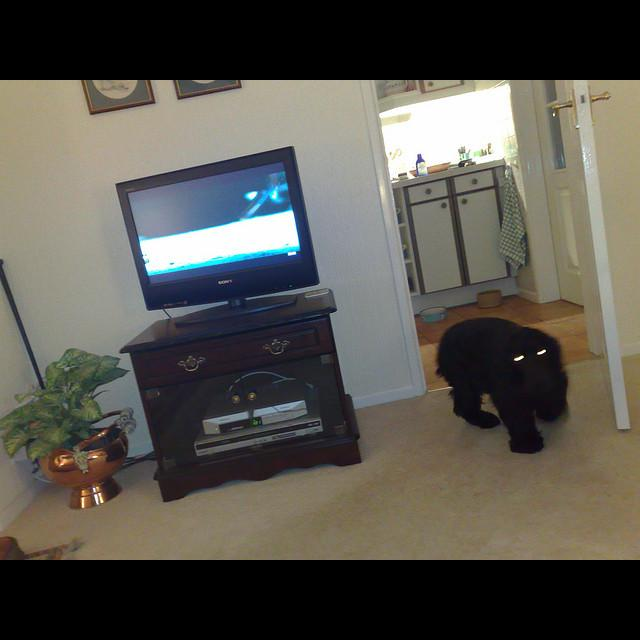Flat-Panel-TV: (114, 146, 320, 326)
